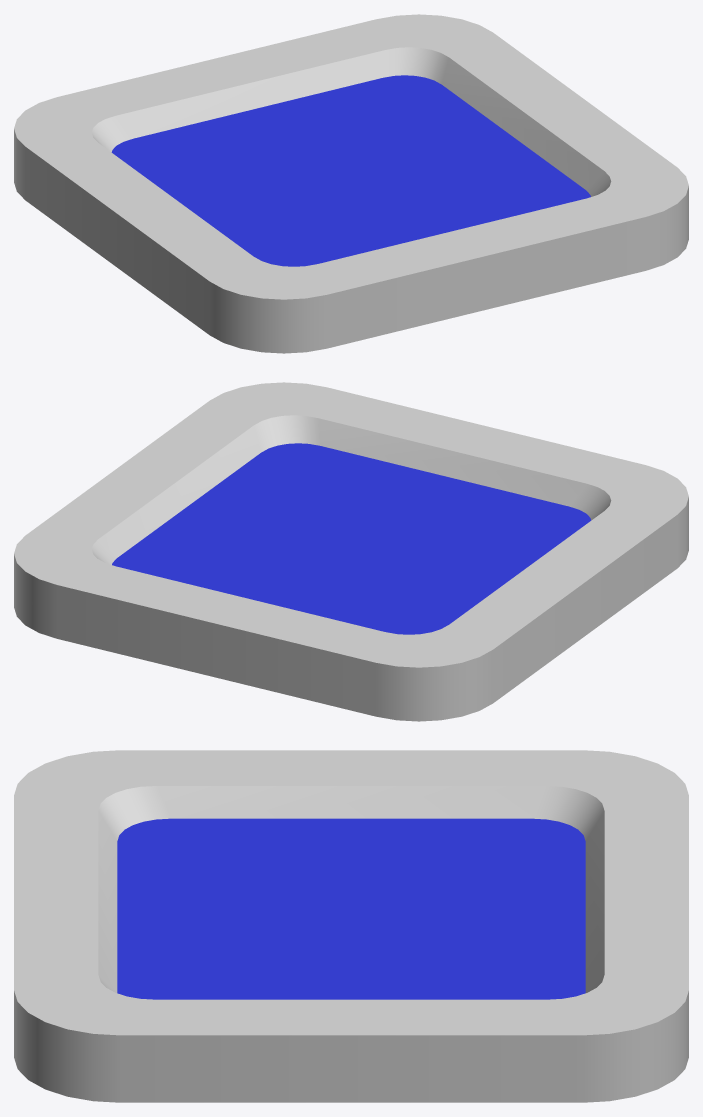
The model's file is InputSelectionScreen.fbx.
The picture shows the model from 3 angles, top to bottom: view 1: azimuth 30°, elevation 25°; view 2: azimuth 150°, elevation 25°; view 3: azimuth 270°, elevation 25°; orthographic projection. The views are drawn at different scales.
Parts seen in each view (by area): view 1: InputSelectionScreen; view 2: InputSelectionScreen; view 3: InputSelectionScreen.
Boxes of the visible parts, x1=… form: InputSelectionScreen: x1=14, y1=14, x2=688, y2=353; InputSelectionScreen: x1=14, y1=382, x2=688, y2=721; InputSelectionScreen: x1=14, y1=750, x2=688, y2=1102.
Bounding box in the file's own units: 200 × 22.02 × 200.
